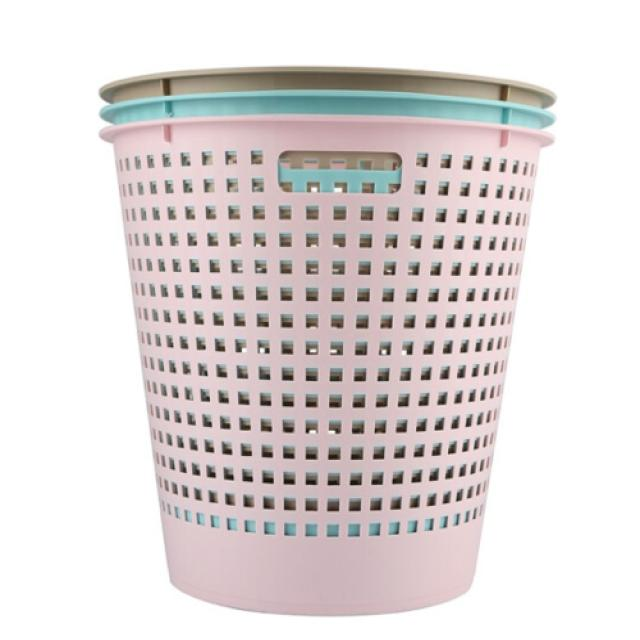dustbin: (93, 112, 562, 626)
